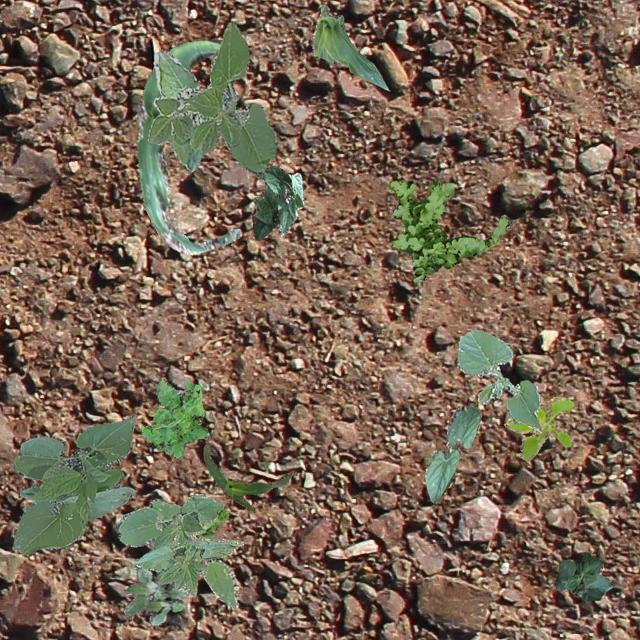crop: (137, 38, 240, 254), (147, 21, 276, 178), (12, 414, 134, 554), (116, 494, 242, 596), (456, 328, 540, 432), (311, 3, 387, 89), (202, 444, 296, 512), (424, 404, 481, 502), (262, 166, 302, 236), (554, 552, 612, 600), (252, 184, 278, 240)
weed: (388, 178, 510, 280), (146, 498, 238, 608), (140, 378, 208, 458), (504, 396, 572, 460), (122, 566, 186, 624), (192, 508, 228, 538)
